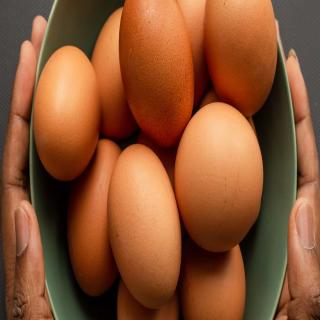Telur: (32, 1, 289, 320)
